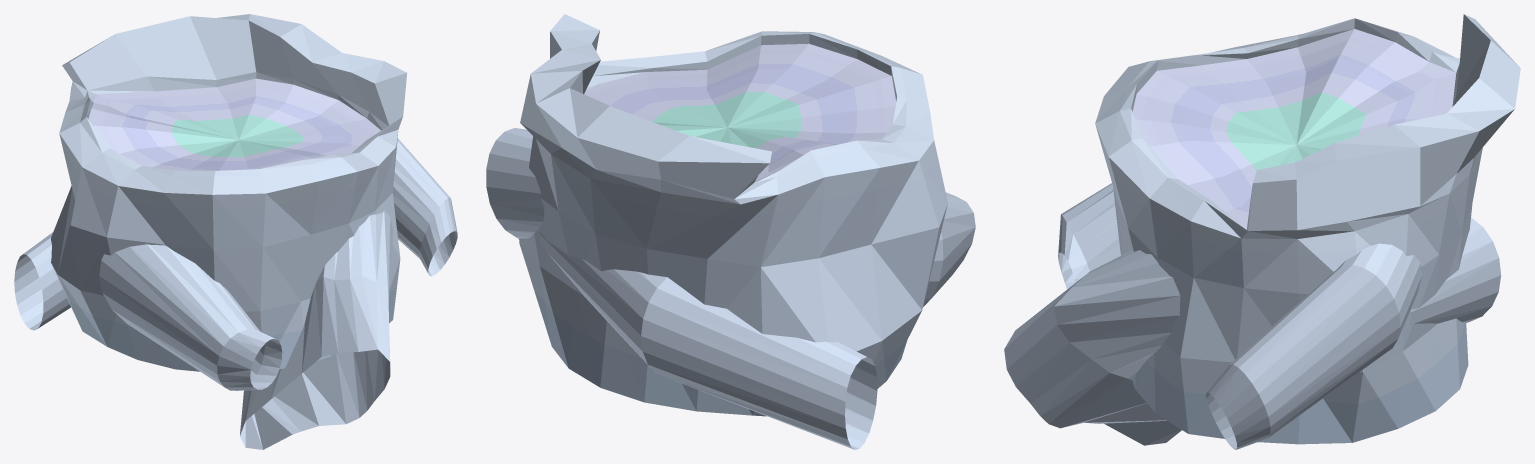
File: SM_TreeStump.fbx
The picture shows the model from 3 angles, left to right: view 1: azimuth 30°, elevation 25°; view 2: azimuth 150°, elevation 25°; view 3: azimuth 270°, elevation 25°; orthographic projection. The views are drawn at different scales.
Visible parts, largest first — view 1: SM_TreeStump1; view 2: SM_TreeStump1; view 3: SM_TreeStump1.
Boxes of the visible parts, x1,y1,x2,y2 form: SM_TreeStump1: [14, 14, 457, 449]; SM_TreeStump1: [486, 14, 975, 449]; SM_TreeStump1: [1004, 14, 1520, 449].
Size of the model in its own units: 106 by 89.08 by 102.
1 material, 1 textured.
